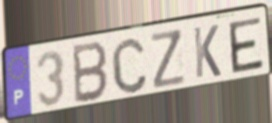3: (34, 48, 67, 110)
B: (72, 39, 110, 106)
C: (110, 35, 150, 96)
E: (227, 15, 266, 76)
K: (191, 23, 223, 80)
Z: (149, 27, 188, 91)
